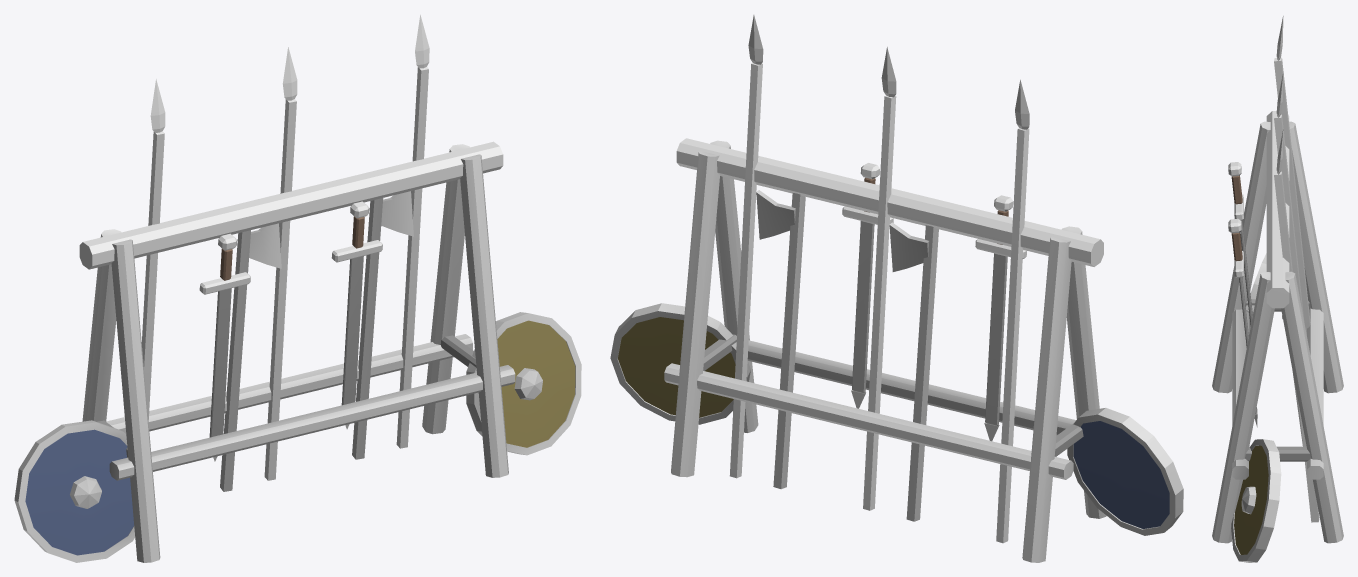
File: weapon_rack.glb
The picture shows the model from 3 angles, left to right: view 1: azimuth 30°, elevation 25°; view 2: azimuth 150°, elevation 25°; view 3: azimuth 270°, elevation 25°; orthographic projection. The views are drawn at different scales.
Parts seen in each view (by area): view 1: axe_head; view 2: axe_head; view 3: axe_head.
Boxes of the visible parts, x1=… form: axe_head: x1=14, y1=14, x2=581, y2=562; axe_head: x1=610, y1=15, x2=1183, y2=562; axe_head: x1=1212, y1=16, x2=1343, y2=562.
Bounding box in the file's own units: 3.07 × 2.33 × 0.7054.
